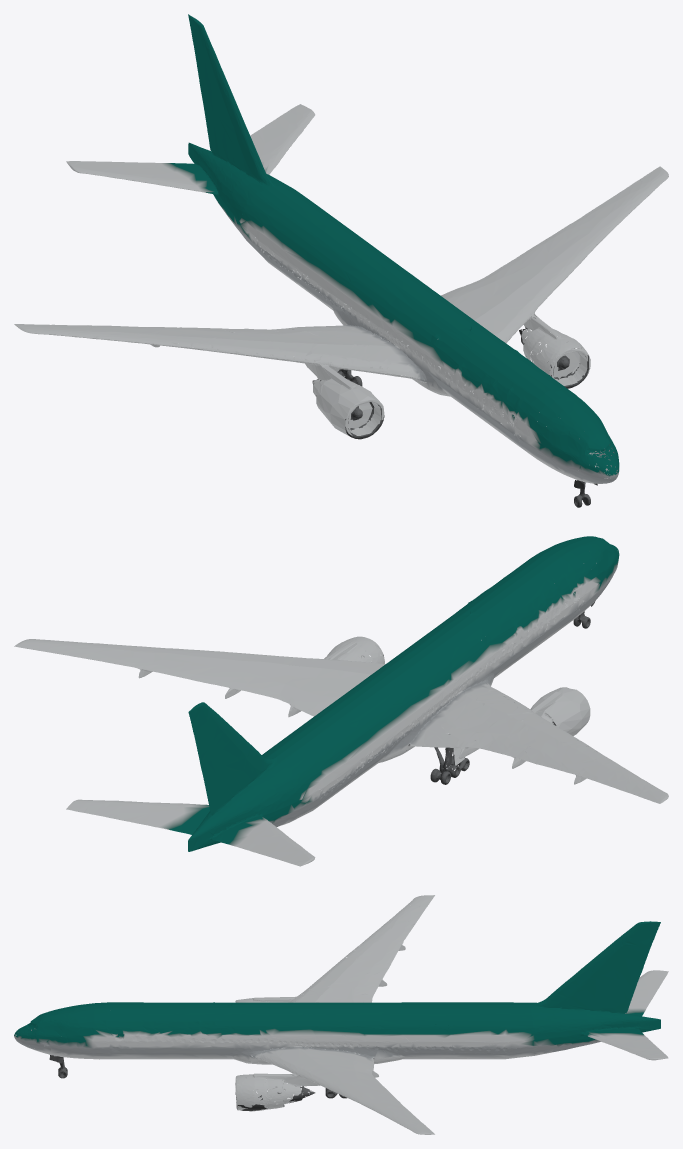
3 views of the same model, one above another, from view 1: azimuth 30°, elevation 25°; view 2: azimuth 150°, elevation 25°; view 3: azimuth 270°, elevation 25° (orthographic). The views are drawn at different scales.
Parts seen in each view (by area): view 1: model (×2); view 2: model (×2); view 3: model (×2).
Part boxes in pixels (x1=…): model (×2): x1=14, y1=14, x2=668, y2=507; model (×2): x1=14, y1=536, x2=668, y2=866; model (×2): x1=14, y1=895, x2=668, y2=1134.
Size of the model in its own units: 77.51 by 23.33 by 89.6.
